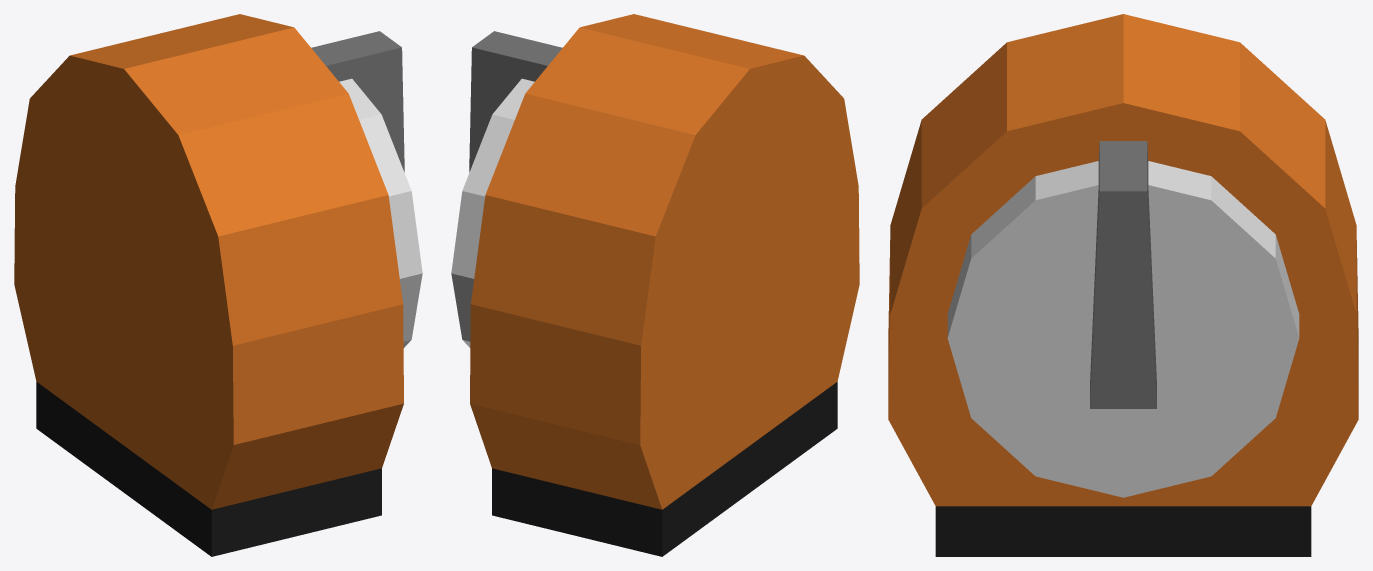
The model's file is SM_eggTimer.glb.
The picture shows the model from 3 angles, left to right: view 1: azimuth 30°, elevation 25°; view 2: azimuth 150°, elevation 25°; view 3: azimuth 270°, elevation 25°; orthographic projection. The views are drawn at different scales.
Parts seen in each view (by area): view 1: SM_eggTimer; view 2: SM_eggTimer; view 3: SM_eggTimer.
Part boxes in pixels (left/top/right/bottom): SM_eggTimer: left=14, top=14, right=422, bottom=556; SM_eggTimer: left=451, top=14, right=859, bottom=556; SM_eggTimer: left=888, top=14, right=1358, bottom=556.
Size of the model in its own units: 0.1158 by 0.1757 by 0.1649.
Materials: 1 (1 with a texture image).
